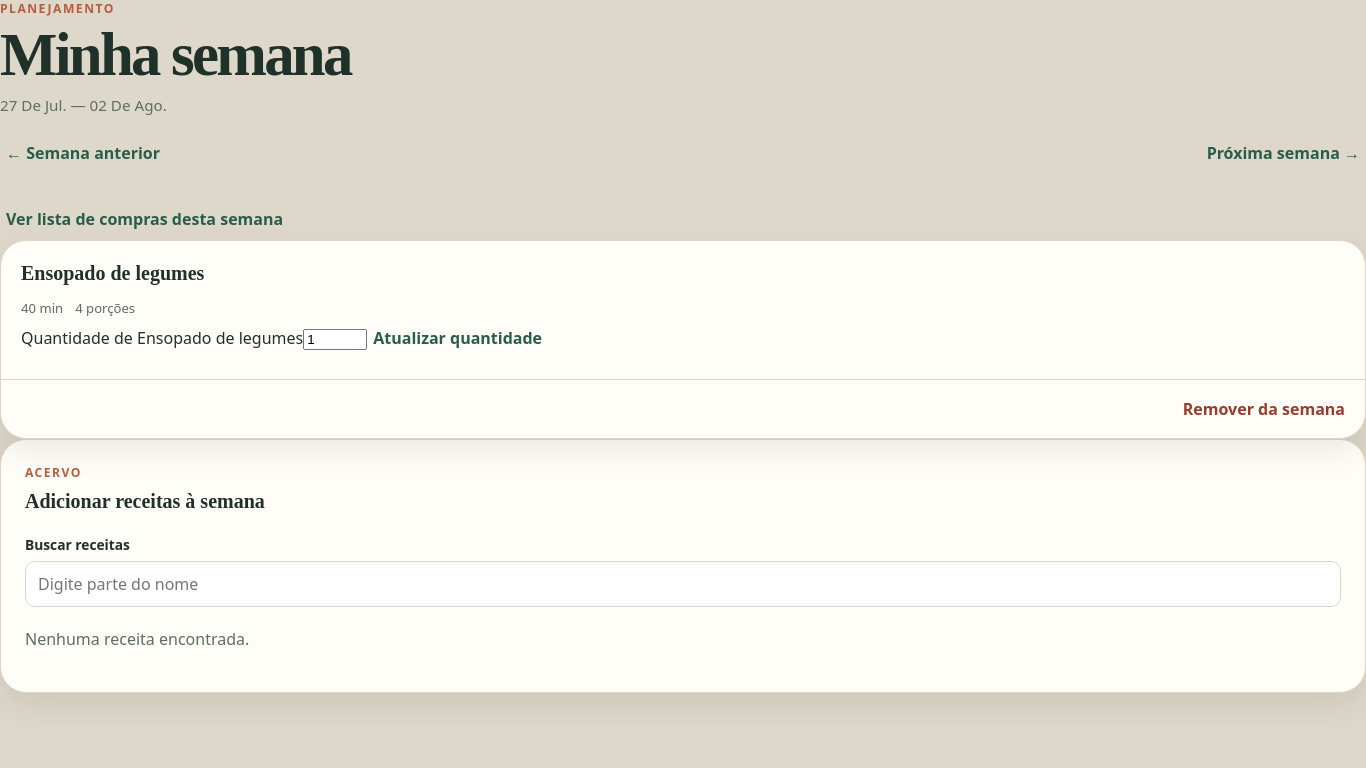
it: WeeklyPlanPage › shows a removal error while keeping recipe search available
Click the button "Remover da semana": {"x": 1264, "y": 409} [1177,388,1351,430]
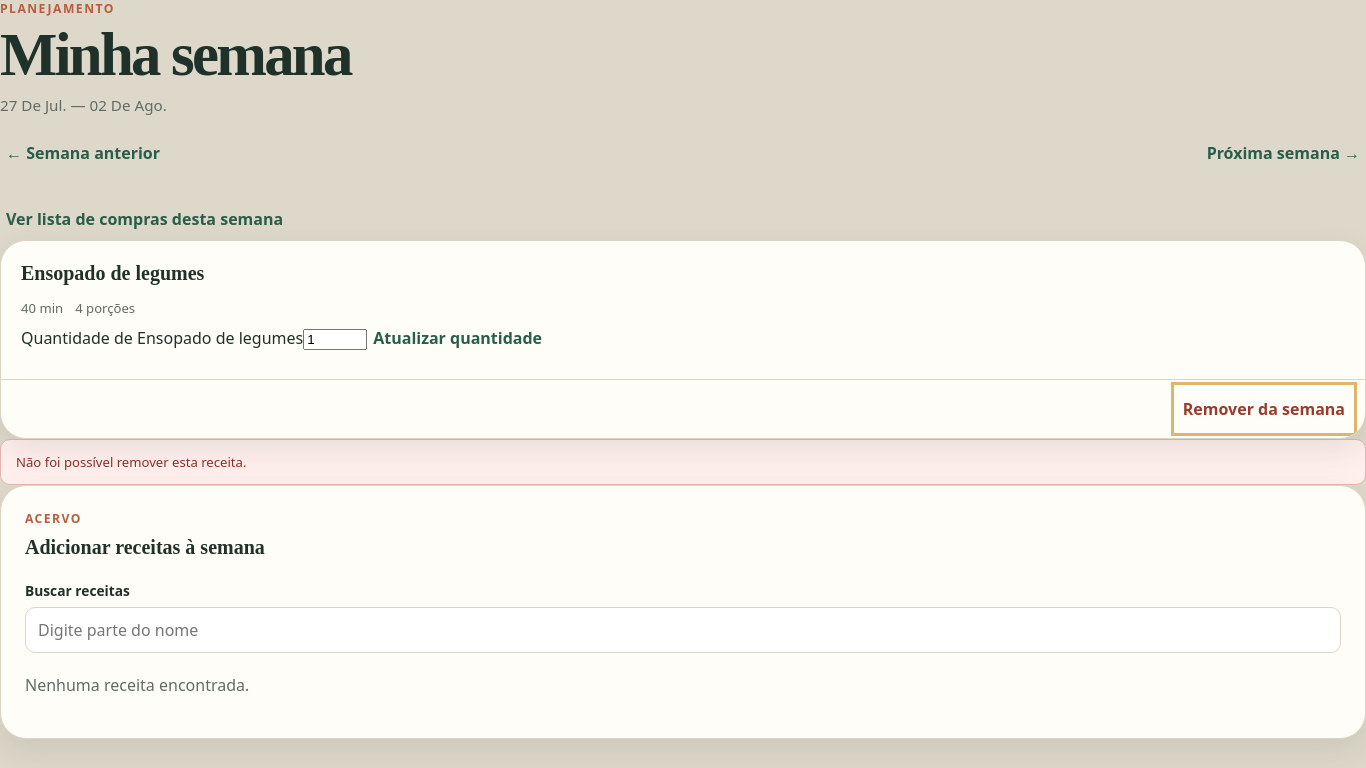
Expected: the search field labelled "Buscar receitas" is shown, [25,607,1341,653]
Expected: the text "Não foi possível remover esta receita." is shown, [0,439,1365,485]
